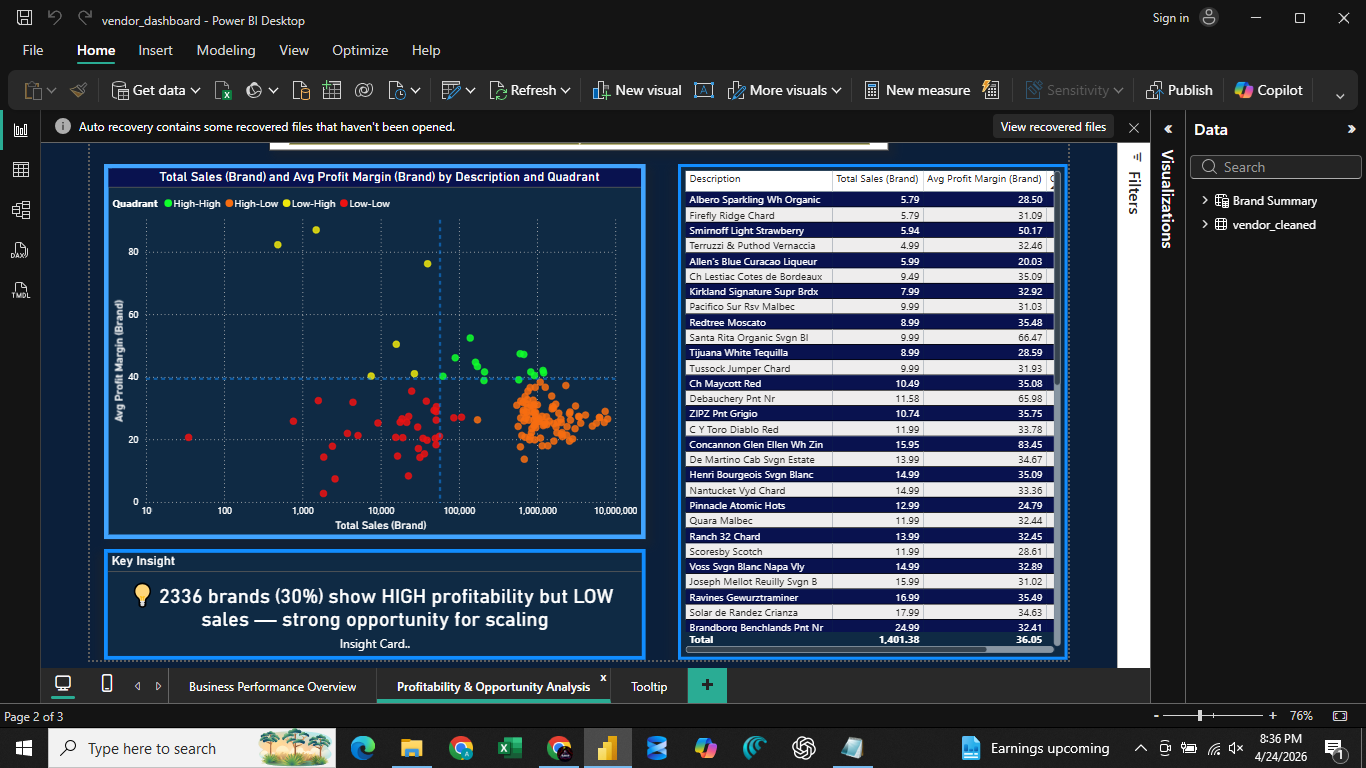

This screenshot's page, from the dashboard's own definition file:
{"tool":"powerbi","page":{"name":"Profitability & Opportunity Analysis","canvas":[1280,720],"ordinal":1},"visuals":[{"type":"scatterChart","fields":{"X":["vendor_cleaned.Total Sales (Brand)"],"Y":["vendor_cleaned.Avg Profit Margin (Brand)"],"Category":["vendor_cleaned.Description"],"Series":["vendor_cleaned.Quadrant"]},"box":[17.7,70.9,709.5,490.7],"z":0},{"type":"slicer","fields":{"Values":["vendor_cleaned.Target Brand"]},"box":[234.3,0,811.5,53.2],"z":1000},{"type":"card","title":"Key Insight","fields":{"Values":["Brand Summary.Insight Card.."]},"box":[17.7,575,709.5,144.8],"z":2000},{"type":"tableEx","fields":{"Values":["vendor_cleaned.Description","vendor_cleaned.Total Sales (Brand)","vendor_cleaned.Avg Profit Margin (Brand)","vendor_cleaned.Opportunity Rank"]},"box":[770.1,70.9,509.9,648.9],"z":3000},{"type":"actionButton","box":[0,0,100,40],"z":4000}]}

Visuals, with their boxes on the page's 1280x720 design canvas (x1, y1, x2, y2). These are canvas units, not pixel positions in the 1366x768 screenshot, which may show the page scaled, cropped or inside an application window:
scatterChart - vendor_cleaned.Total Sales (Brand) x vendor_cleaned.Avg Profit Margin (Brand): [18,71,727,562]
slicer - vendor_cleaned.Target Brand: [234,0,1046,53]
"Key Insight" card: [18,575,727,720]
tableEx - vendor_cleaned.Description x vendor_cleaned.Total Sales (Brand): [770,71,1280,720]
actionButton: [0,0,100,40]
